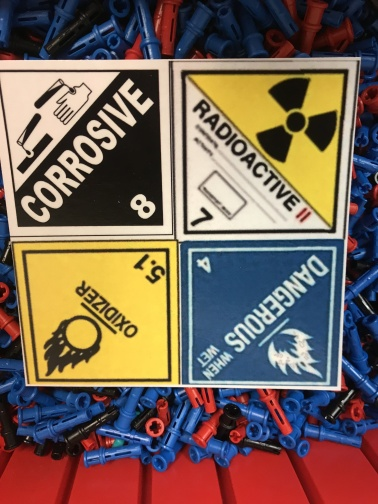Corrosive: (1, 59, 174, 237)
DangerousWhenWet: (180, 241, 344, 389)
Oxidizer: (12, 241, 179, 386)
Radioactive: (174, 61, 358, 241)
